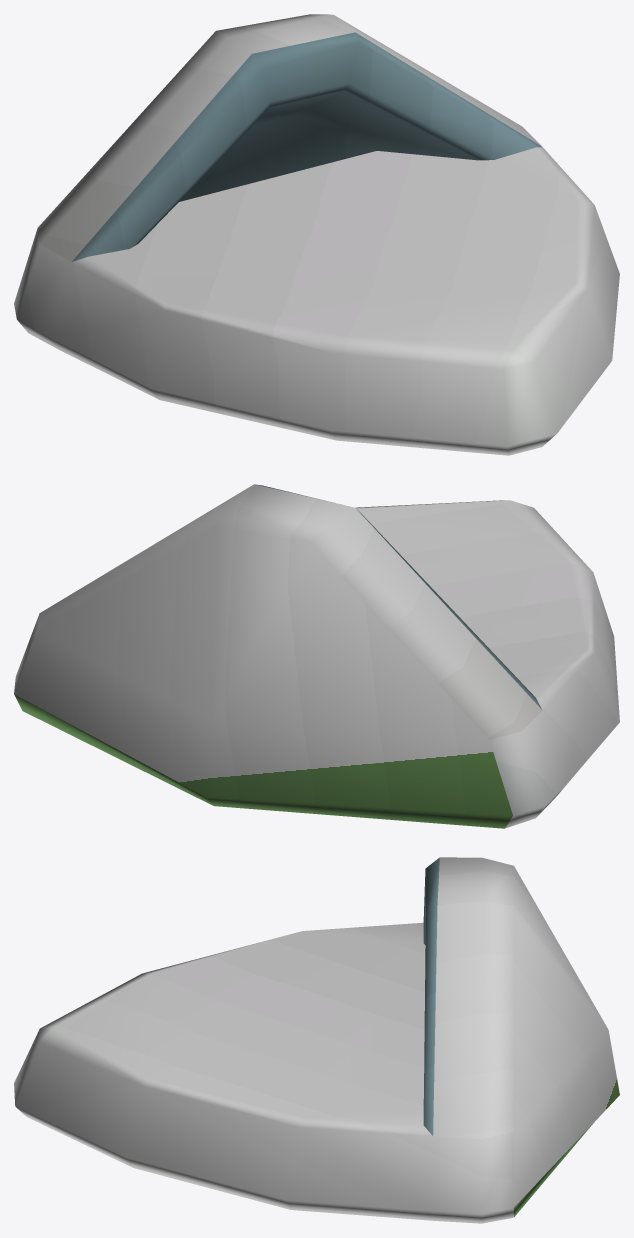
The model's file is P_StoneWallSconce.glb.
3 views of the same model, one above another, from view 1: azimuth 30°, elevation 25°; view 2: azimuth 150°, elevation 25°; view 3: azimuth 270°, elevation 25° (orthographic). The views are drawn at different scales.
Visible parts, largest first — view 1: P_StoneWallSconce; view 2: P_StoneWallSconce; view 3: P_StoneWallSconce.
Part boxes in pixels (bbox=[...]): P_StoneWallSconce: bbox=[14, 14, 619, 455]; P_StoneWallSconce: bbox=[14, 484, 619, 828]; P_StoneWallSconce: bbox=[14, 857, 619, 1223].
Bounding box in the file's own units: 0.2495 × 0.111 × 0.2664.
1 material, 1 textured.
